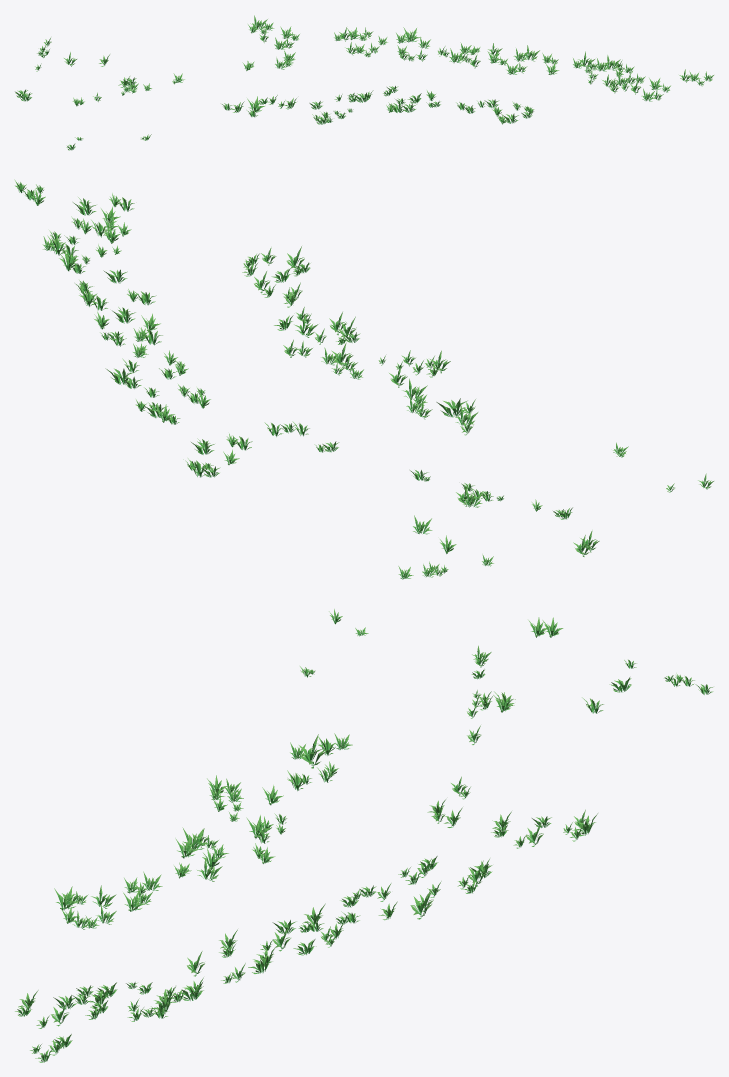
File: Area_09_31.fbx
3 renders of one model, top to bottom at view 1: azimuth 30°, elevation 25°; view 2: azimuth 150°, elevation 25°; view 3: azimuth 270°, elevation 25°, orthographic. The views are drawn at different scales.
Visible parts, largest first — view 1: Area_09_31; view 2: Area_09_31; view 3: Area_09_31.
Boxes of the visible parts, x1,y1,x2,y2 form: Area_09_31: (15,15,713,150); Area_09_31: (14,179,713,579); Area_09_31: (15,609,713,1062).
Size of the model in its own units: 4744 by 130 by 3141.
